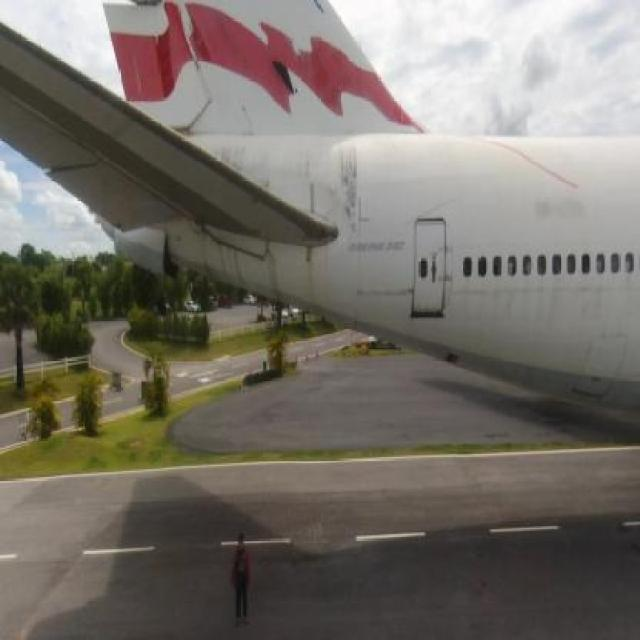Rust: (254, 140, 332, 194), (331, 135, 367, 248), (194, 222, 246, 288), (256, 237, 293, 308), (303, 248, 337, 314), (210, 133, 248, 172), (191, 50, 207, 82)
Scartch: (528, 184, 588, 228), (354, 282, 426, 316)
